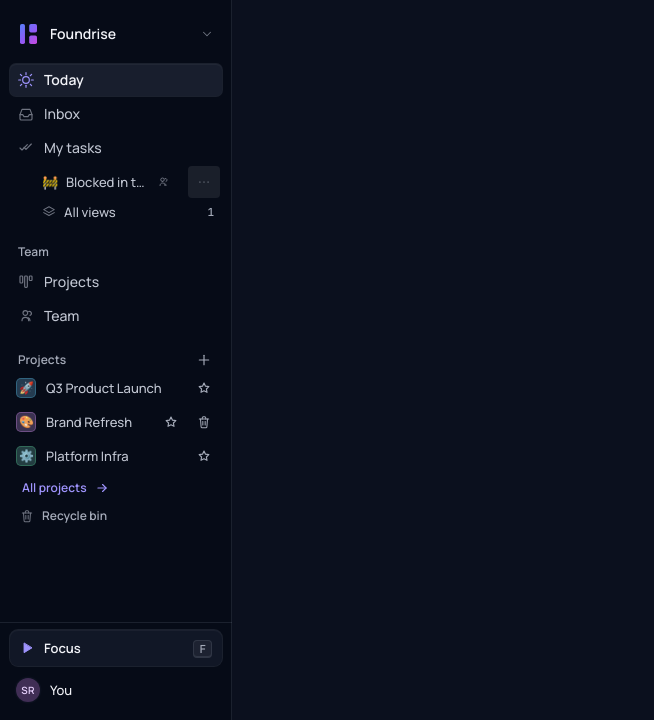
Test case: Sidebar › Views › its maker stops sharing it: the toast comes once it's done
This screenshot has width=654, height=720.
Click the button named "Options for view Blocked in the launch" at (204, 182), box 188,166 -> 220,198
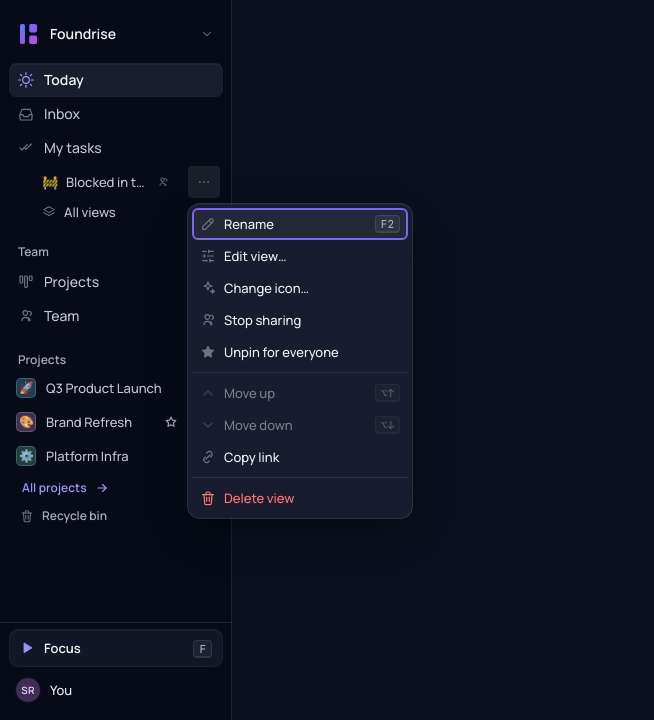
Click the menu item "Stop sharing" at (300, 320), box 192,304 -> 408,336
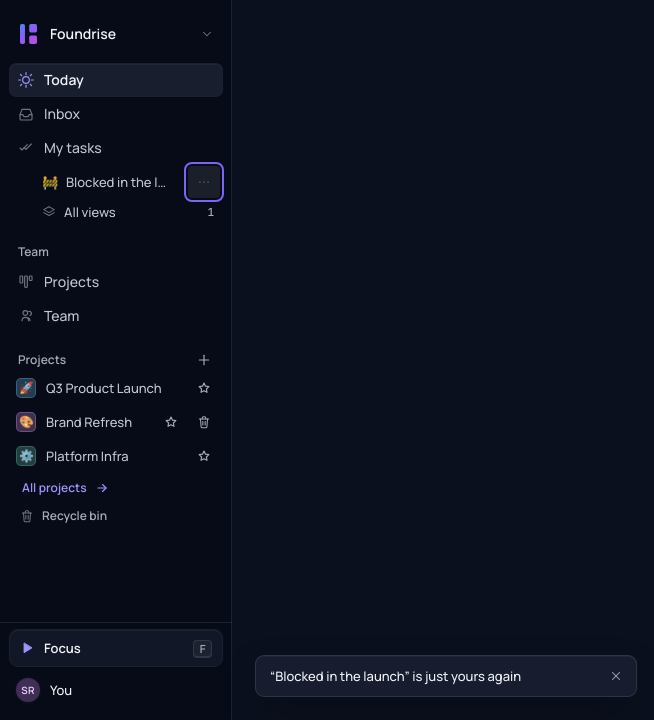
Check: the button with aria-label "Blocked in the launch, 1 task" is shown, box 10,166 -> 222,198
Check: the message reads "“Blocked in the launch” is just yours again", box 270,667 -> 521,685
